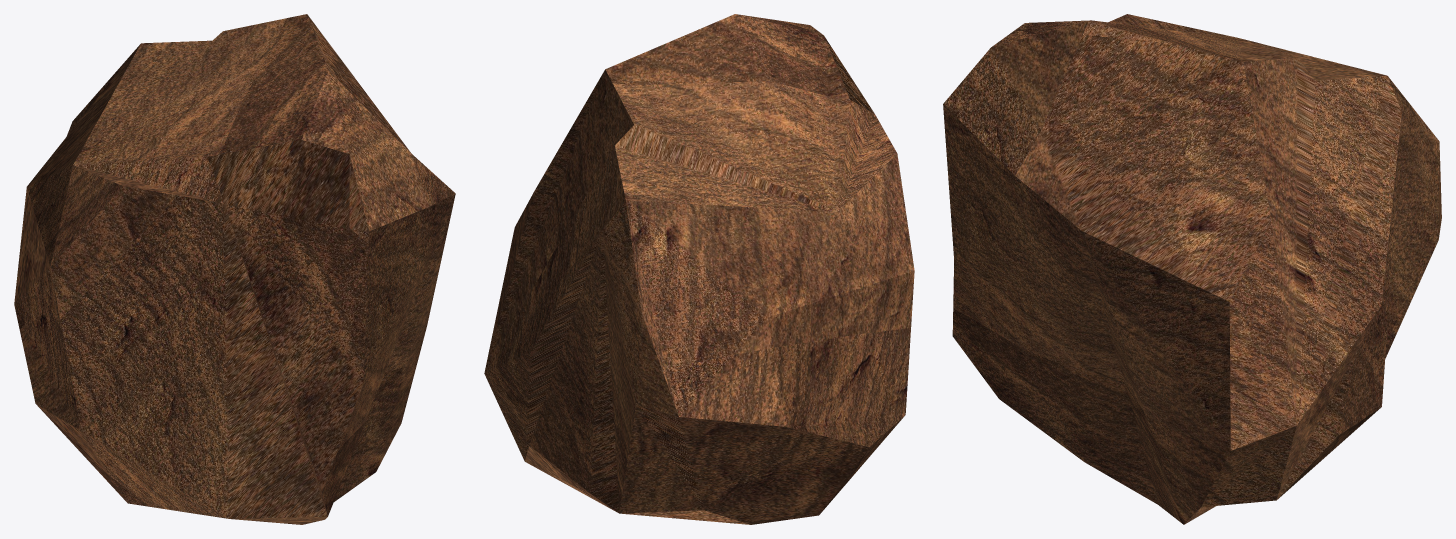
Rendered from rock4.obj.
3 renders of one model, left to right at view 1: azimuth 30°, elevation 25°; view 2: azimuth 150°, elevation 25°; view 3: azimuth 270°, elevation 25°, orthographic. The views are drawn at different scales.
Visible parts, largest first — view 1: Sphere.003; view 2: Sphere.003; view 3: Sphere.003.
Boxes of the visible parts, left/top/right/bottom form: Sphere.003: left=14, top=14, right=455, bottom=524; Sphere.003: left=484, top=14, right=914, bottom=524; Sphere.003: left=943, top=14, right=1441, bottom=524.
Bounding box in the file's own units: 2.04 × 2.34 × 2.21.
1 material, 1 textured.
